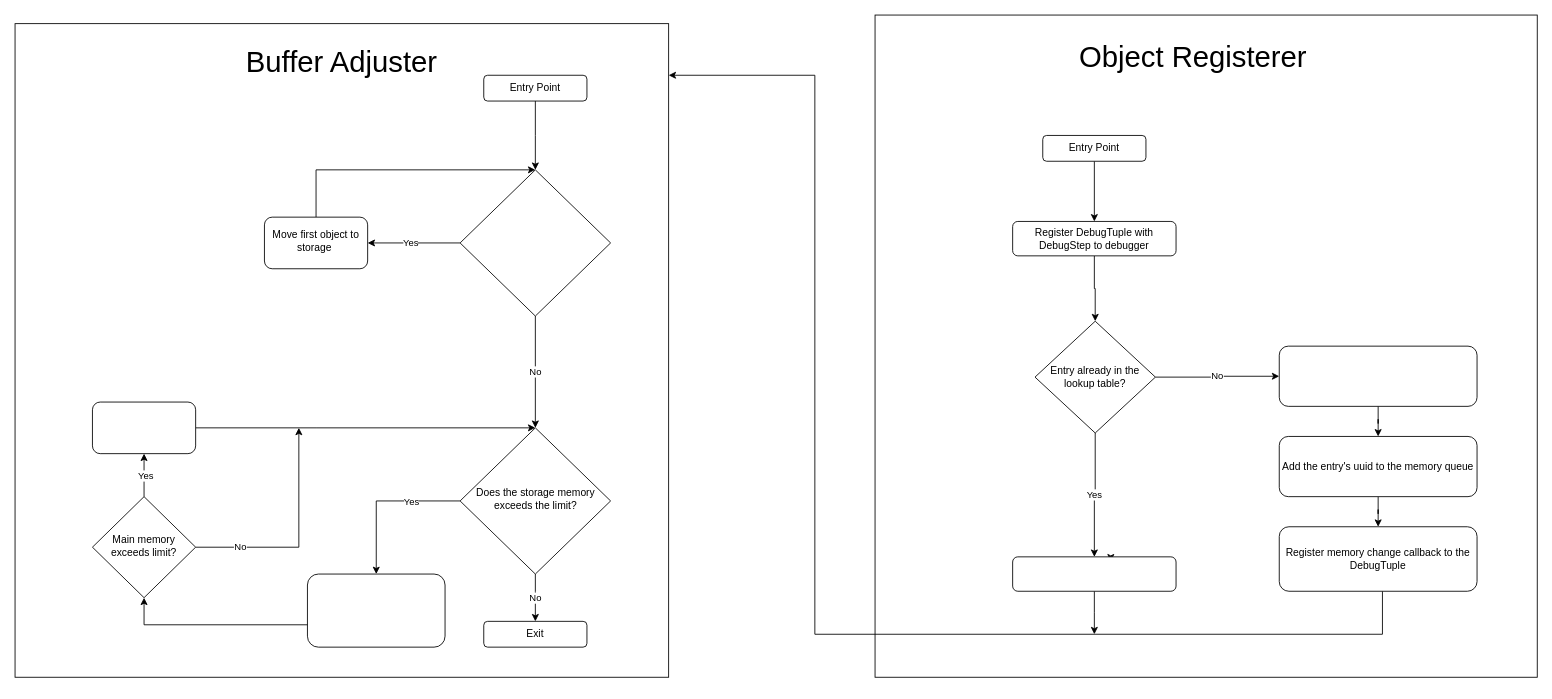
Image size: 1552x699. Some labels were removed from this diagram. The centre of each missing label's shape, as x and y in pixels:
"Add the DebugStep to entry in lookup table" belongs at [1094,573].
"Add the entry to the lookup table with a list consisting its initial DebugStep" belongs at [1377,375].
"Does the main memory exceeds the limit?" belongs at [535,242].
"Remove first object in the storage queue" belongs at [376,610].
"Remove oldest DebugStep from history" belongs at [144,427].
